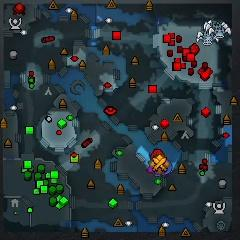Other: (149, 155, 169, 177)
p1: (164, 159, 173, 175)
p3: (147, 166, 154, 173)
